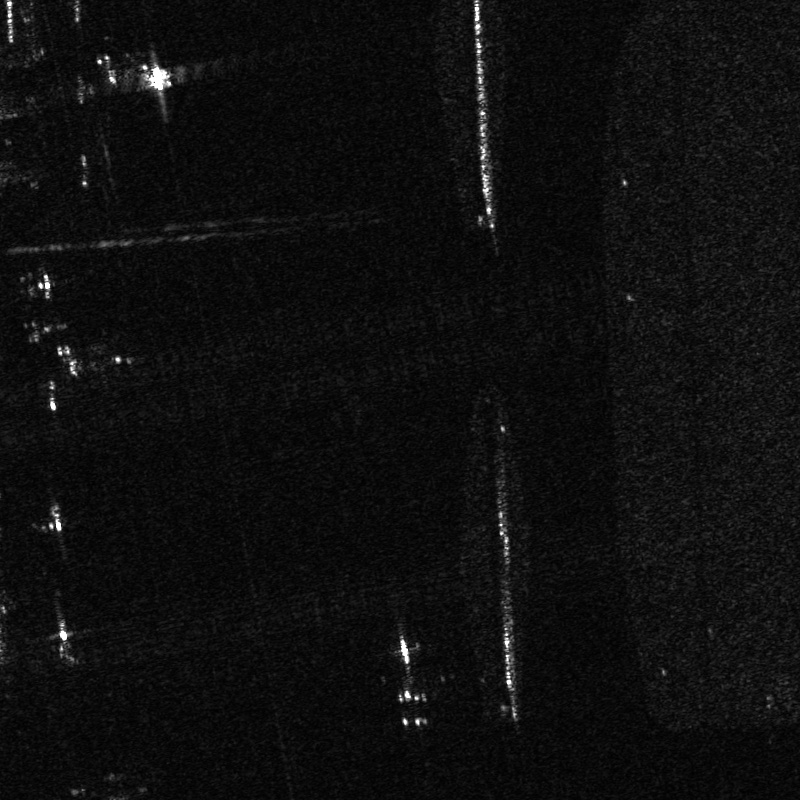A220: (83, 19, 202, 119), (38, 334, 144, 391)
other: (382, 615, 437, 739)
